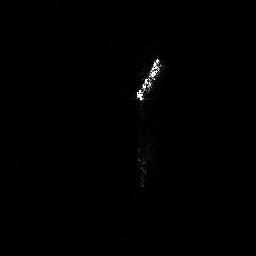ship: (133, 53, 168, 105)
